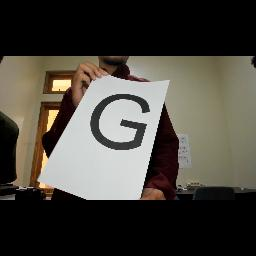g: (86, 92, 154, 152)
